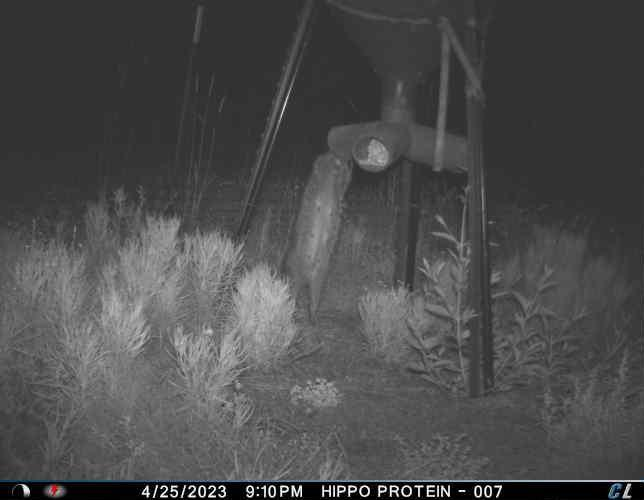Raccoon: (280, 148, 355, 324)
